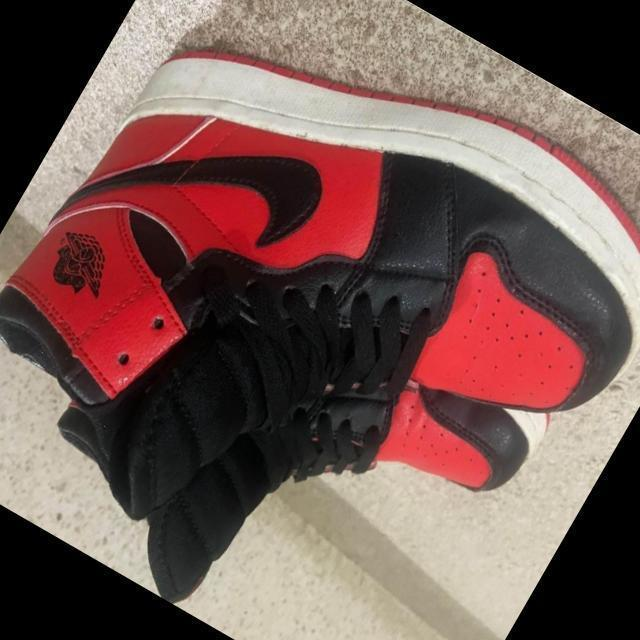nike fake jordan 1: (0, 0, 640, 640), (4, 197, 556, 640)
